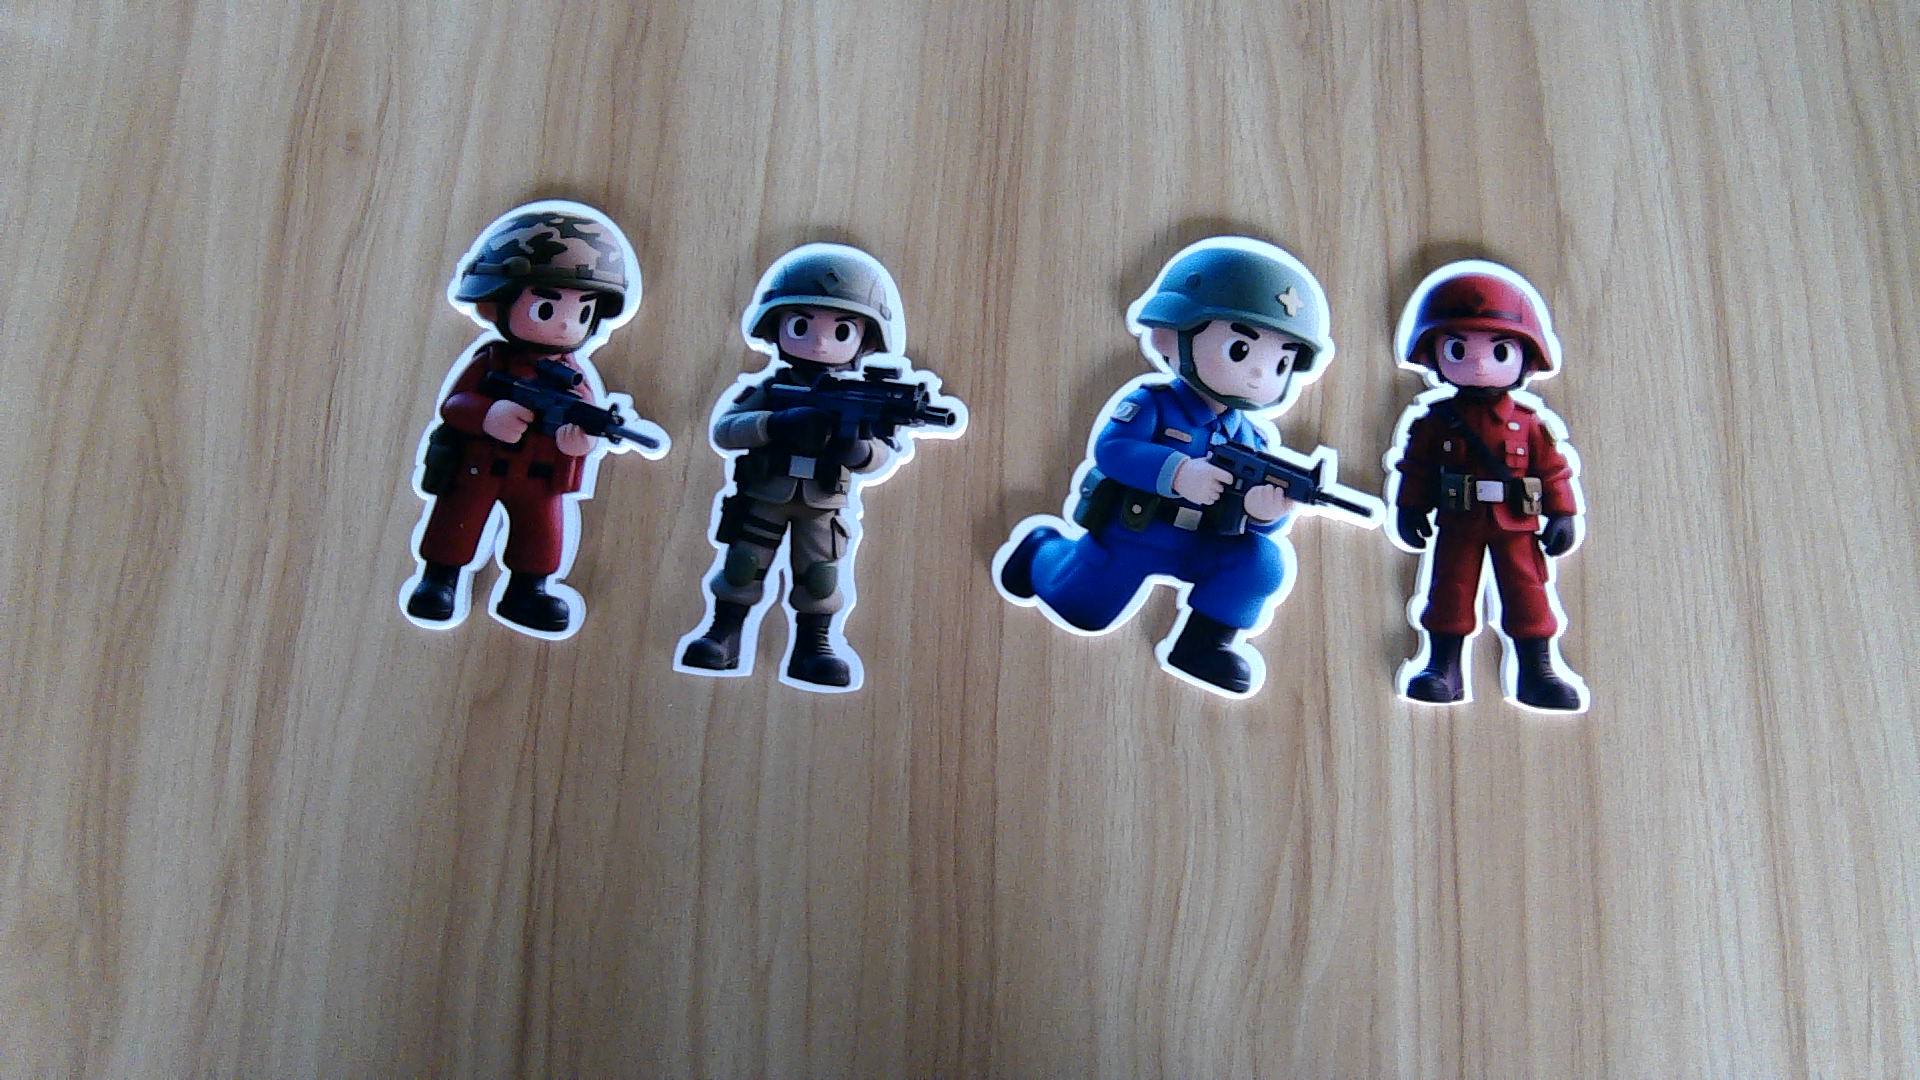友军: (674, 369, 963, 690)
敌人1: (396, 345, 662, 642), (1379, 393, 1601, 720)
敌人2: (989, 375, 1361, 705)
